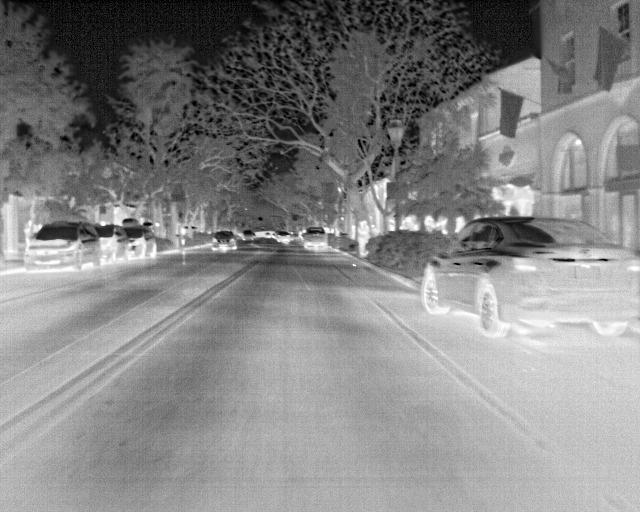bicycle: (420, 216, 638, 336), (20, 220, 101, 273), (117, 223, 157, 258), (94, 225, 128, 265), (301, 225, 329, 249), (208, 229, 238, 251), (239, 229, 257, 244), (274, 229, 292, 243)
empty: (355, 218, 370, 257)
